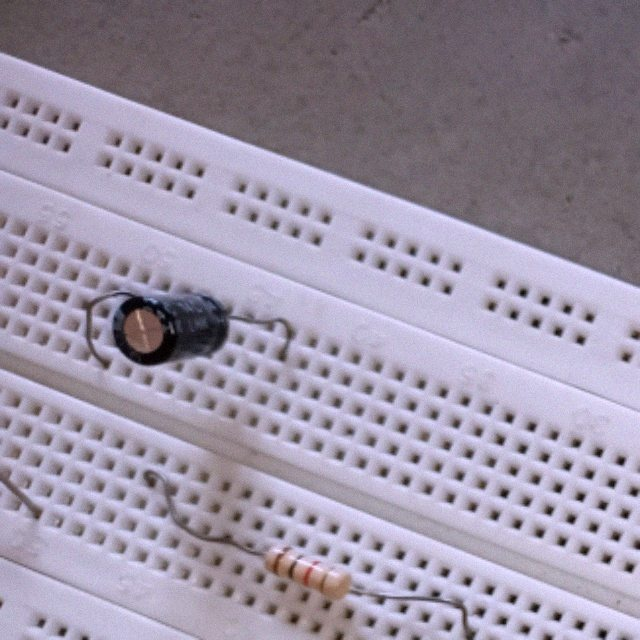capacitor: (112, 293, 232, 368)
resistor: (262, 542, 356, 603)
